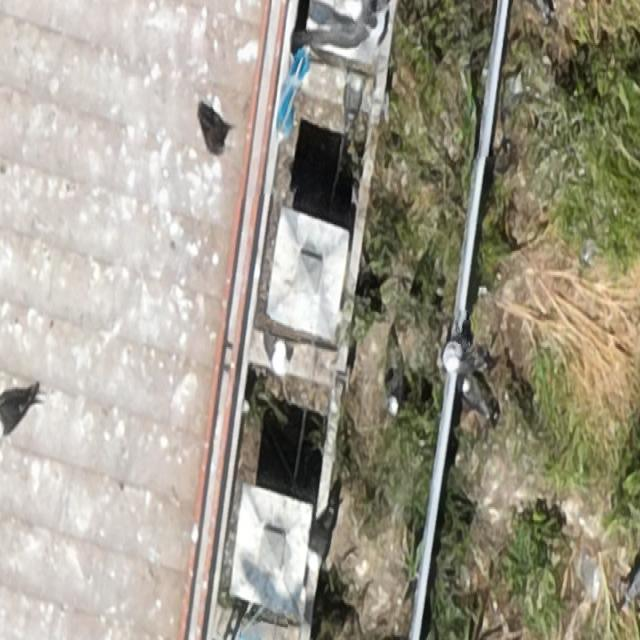umineko: (386, 358, 407, 416), (462, 381, 490, 417)
